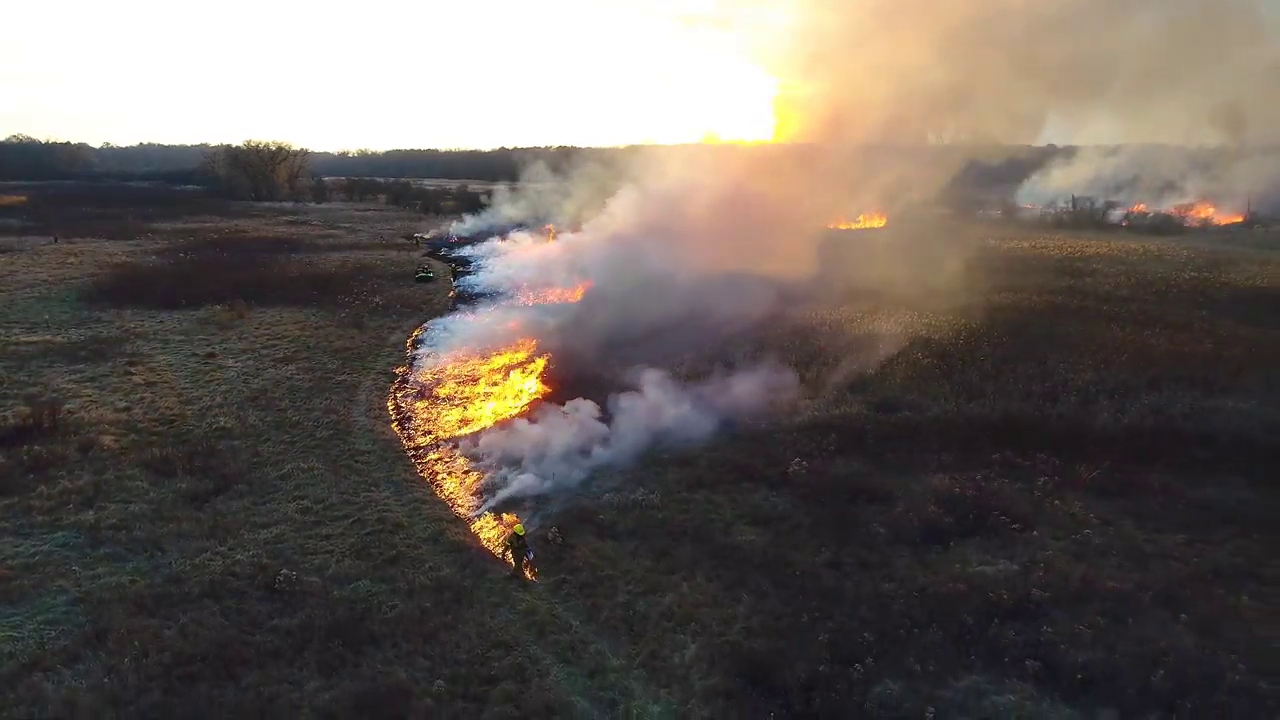forest_fire: (387, 323, 549, 560), (1168, 202, 1249, 226), (517, 283, 588, 305), (828, 213, 888, 230)
